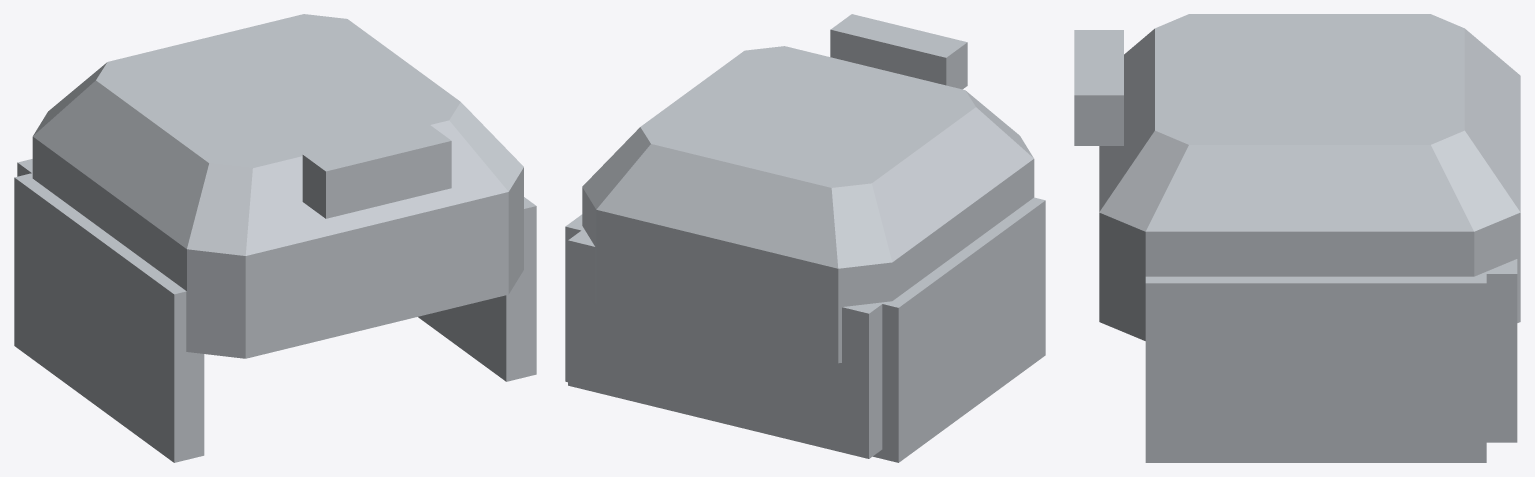
Rendered from npc_gear_helmet_flight.fbx.
3 renders of one model, left to right at view 1: azimuth 30°, elevation 25°; view 2: azimuth 150°, elevation 25°; view 3: azimuth 270°, elevation 25°, orthographic. The views are drawn at different scales.
Parts seen in each view (by area): view 1: npc_gear_helmet_flight; view 2: npc_gear_helmet_flight; view 3: npc_gear_helmet_flight.
Part boxes in pixels (x1,y1,x2,y2): npc_gear_helmet_flight: (14,14,536,462); npc_gear_helmet_flight: (565,14,1045,462); npc_gear_helmet_flight: (1074,14,1520,462).
Size of the model in its own units: 144 by 109 by 144.
